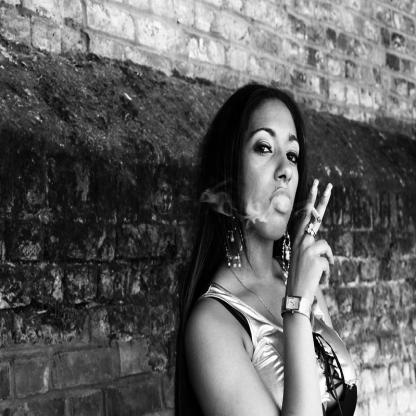smoking: (310, 204, 321, 223)
